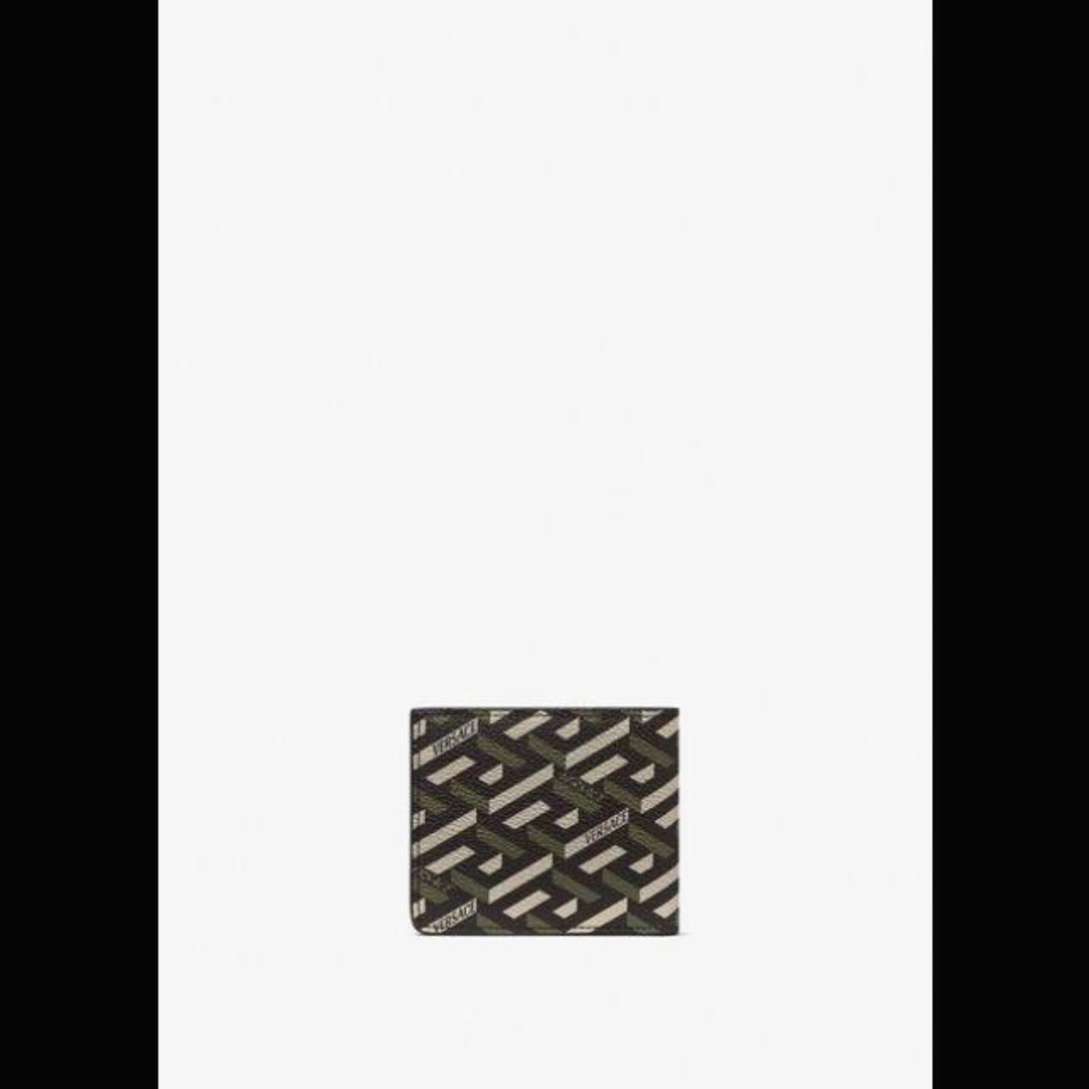wallet: (370, 658, 722, 978)
